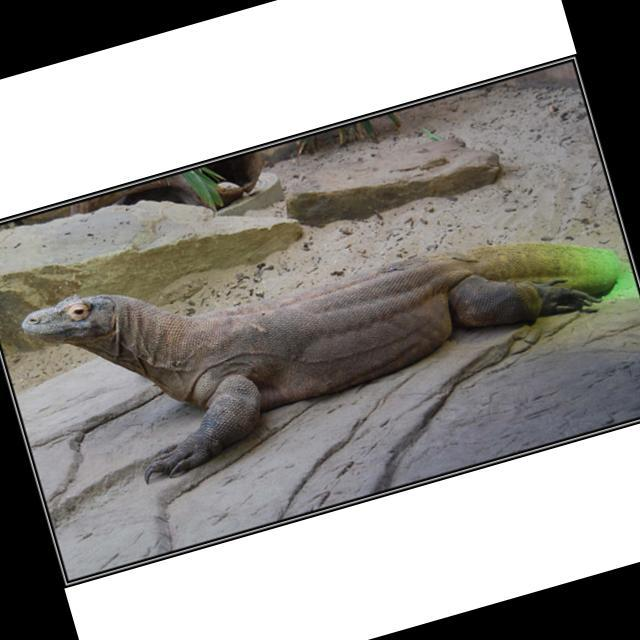KomodoDragon: (16, 145, 640, 502)
